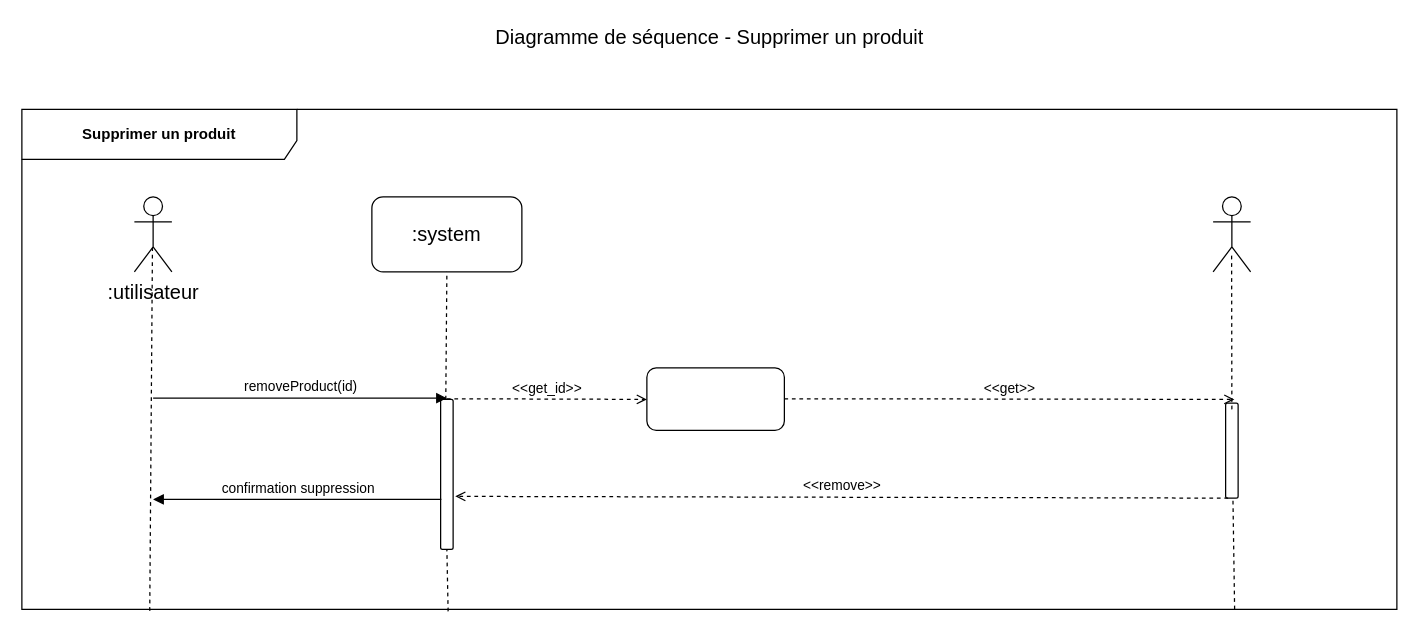
The diagram is 1419 pixels wide and 635 high, and some of its shapes have lost their labels. Each missing label, with the centre of its shape:
:bdd: the point at 1231,234
id_product: the point at 715,398
